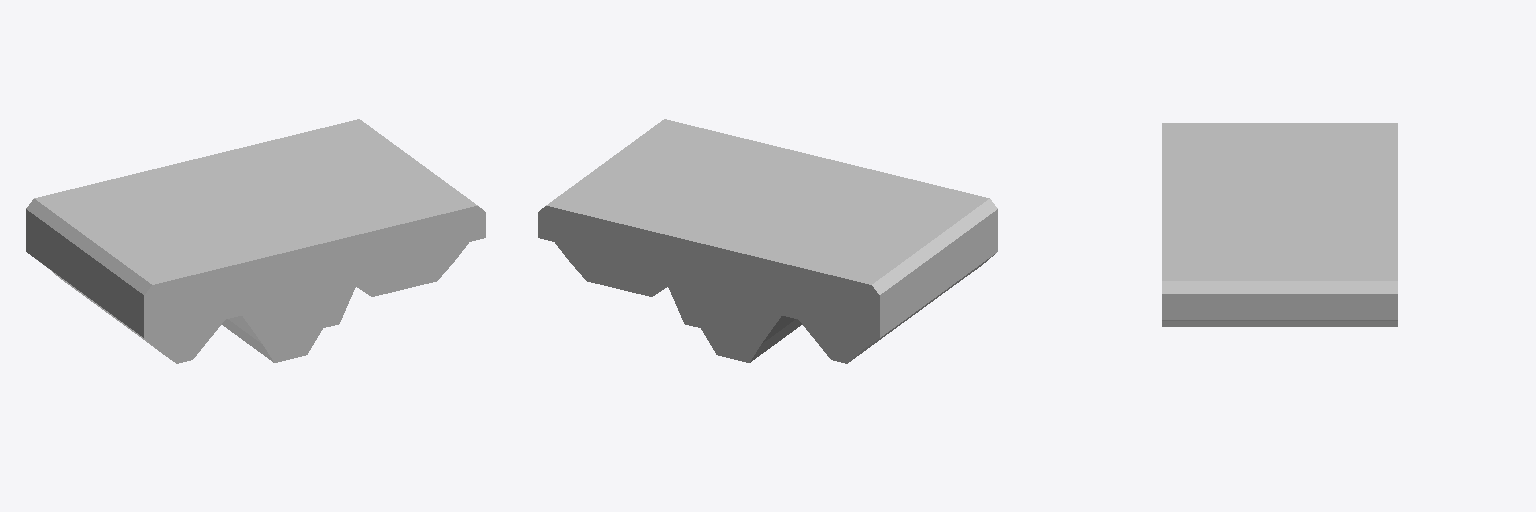
Rendered from Platform10.obj.
The picture shows the model from 3 angles: view 1: azimuth 30°, elevation 25°; view 2: azimuth 150°, elevation 25°; view 3: azimuth 270°, elevation 25°; orthographic projection.
Visible parts, largest first — view 1: pCube3; view 2: pCube3; view 3: pCube3.
Boxes of the visible parts, x1,y1,x2,y2 form: pCube3: [26, 119, 485, 363]; pCube3: [538, 119, 997, 363]; pCube3: [1162, 123, 1397, 326].
Size of the model in its own units: 6.96 by 2.1 by 4.18.